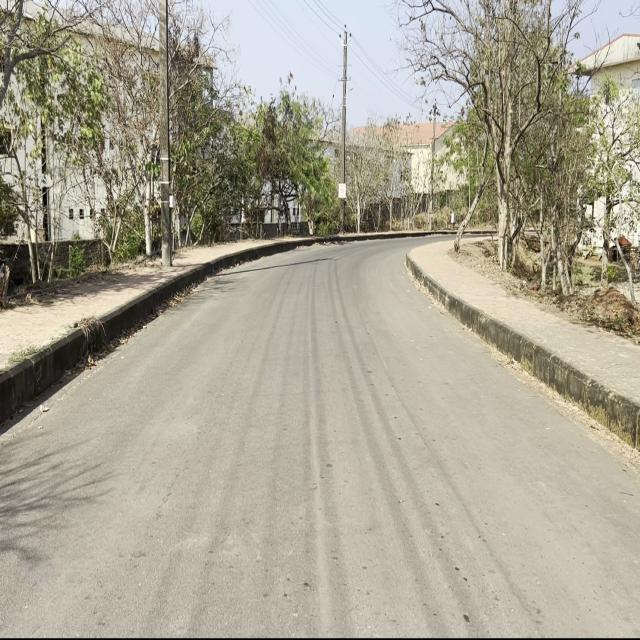Road: (2, 233, 638, 634)
